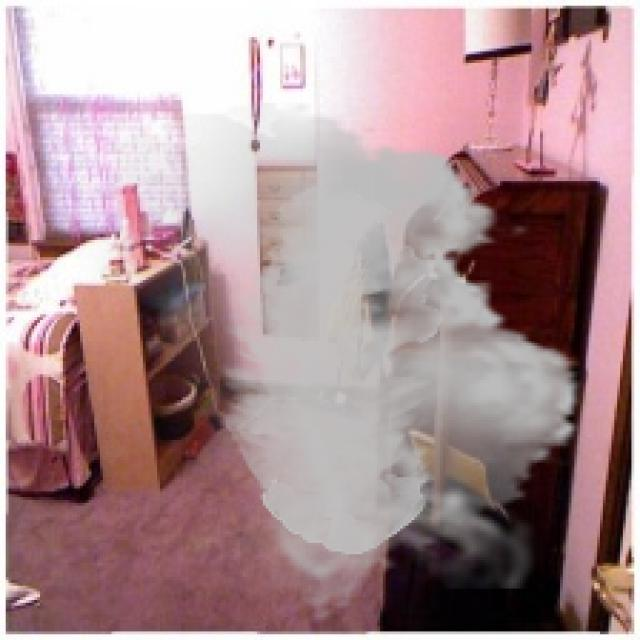smoke: (74, 103, 600, 623)
